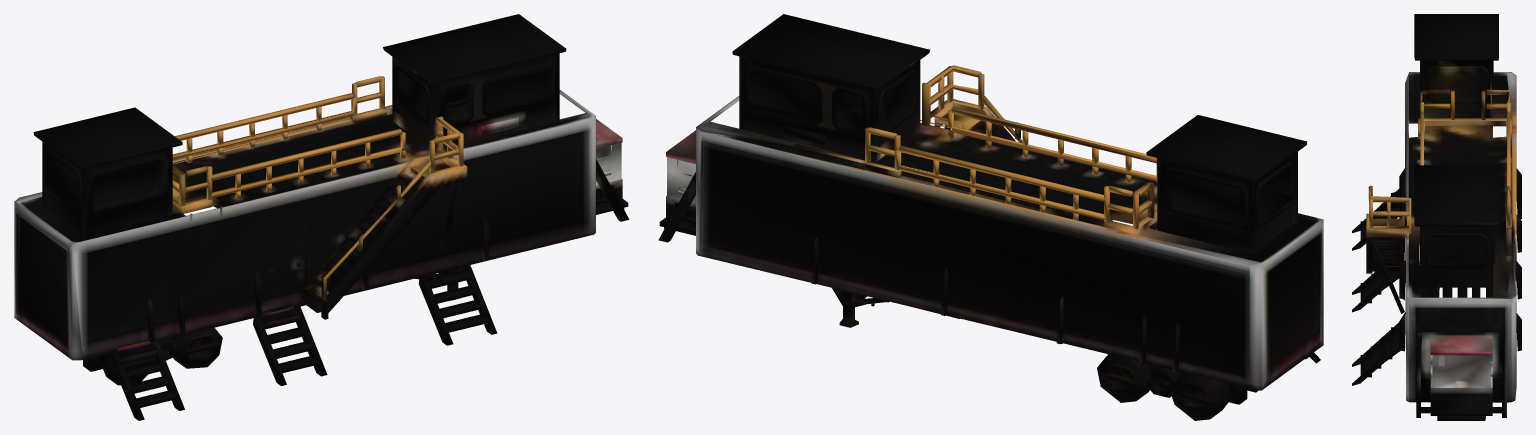
File: ultra_controlvan3d2.glb
The picture shows the model from 3 angles, left to right: view 1: azimuth 30°, elevation 25°; view 2: azimuth 150°, elevation 25°; view 3: azimuth 270°, elevation 25°; orthographic projection. The views are drawn at different scales.
Visible parts, largest first — view 1: texture_pbr_v128; view 2: texture_pbr_v128; view 3: texture_pbr_v128.
Part boxes in pixels (x1,y1,x2,y2): texture_pbr_v128: (14,14,629,420); texture_pbr_v128: (658,14,1323,420); texture_pbr_v128: (1352,14,1521,420).
Size of the model in its own units: 114 by 44.49 by 33.05.
1 material, 1 textured.
